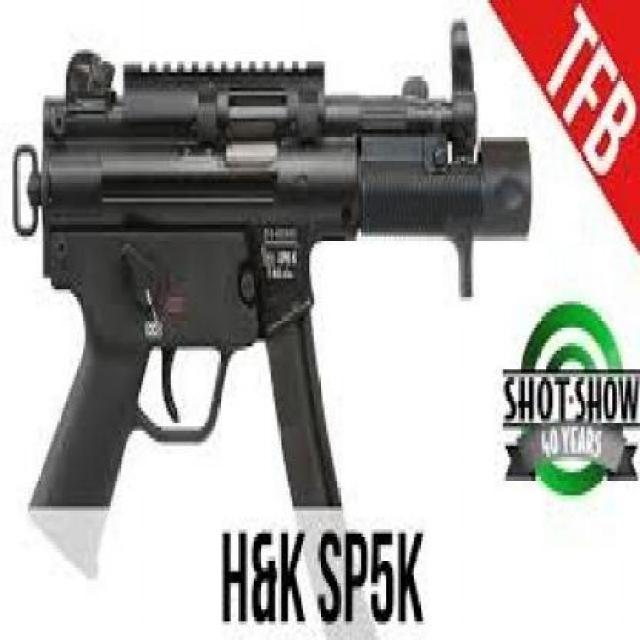Pistol: (11, 8, 530, 500)
